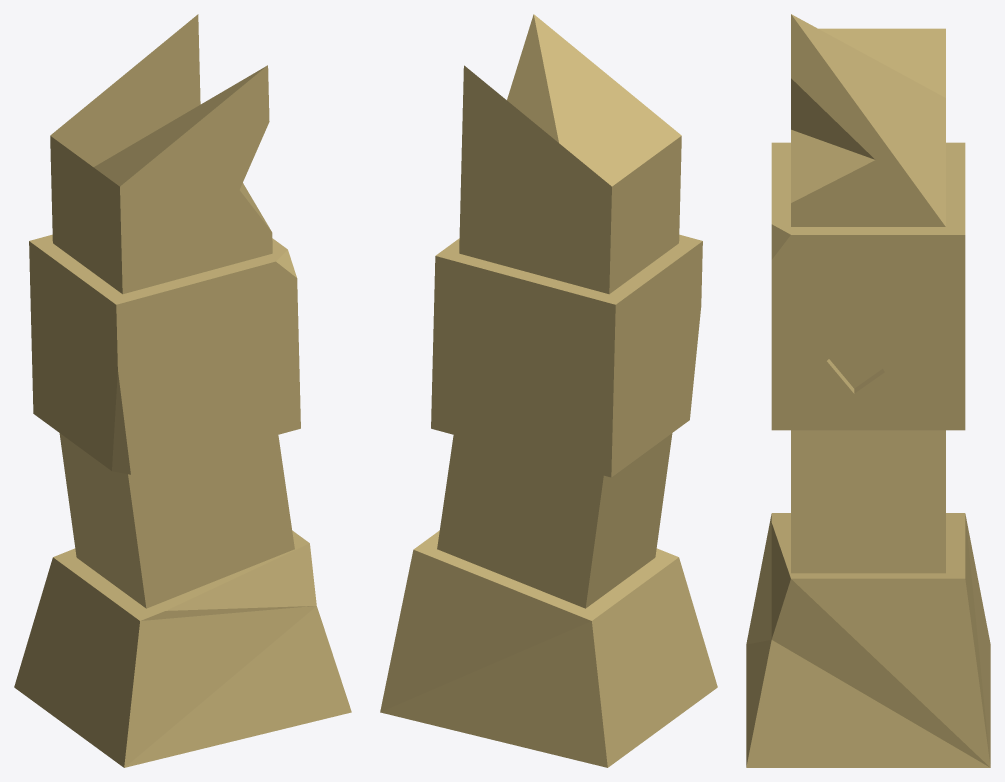
The model's file is Ruins_Column_01.fbx.
3 views of the same model, side by side, from view 1: azimuth 30°, elevation 25°; view 2: azimuth 150°, elevation 25°; view 3: azimuth 270°, elevation 25° (orthographic). The views are drawn at different scales.
Visible parts, largest first — view 1: Model; view 2: Model; view 3: Model.
Boxes of the visible parts, box(x1,y1,x2,y2) form: Model: box(14, 14, 351, 767); Model: box(380, 14, 717, 767); Model: box(746, 14, 990, 767).
Size of the model in its own units: 45.22 by 123 by 37.86.
